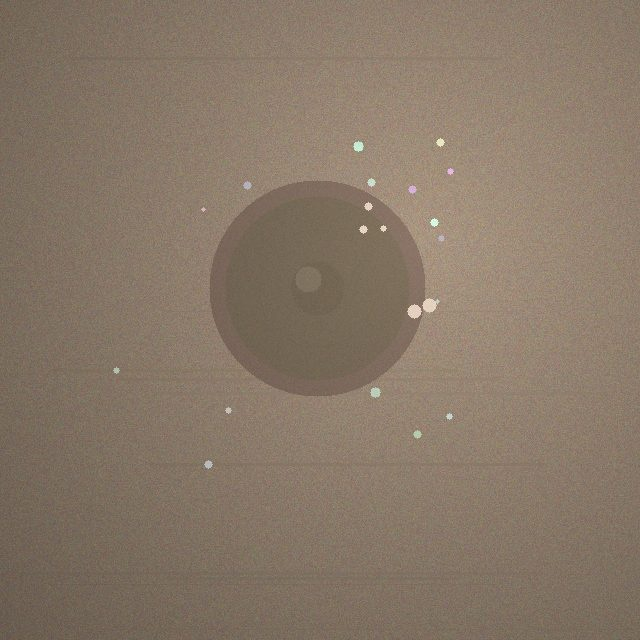overburn: (209, 180, 425, 396)
